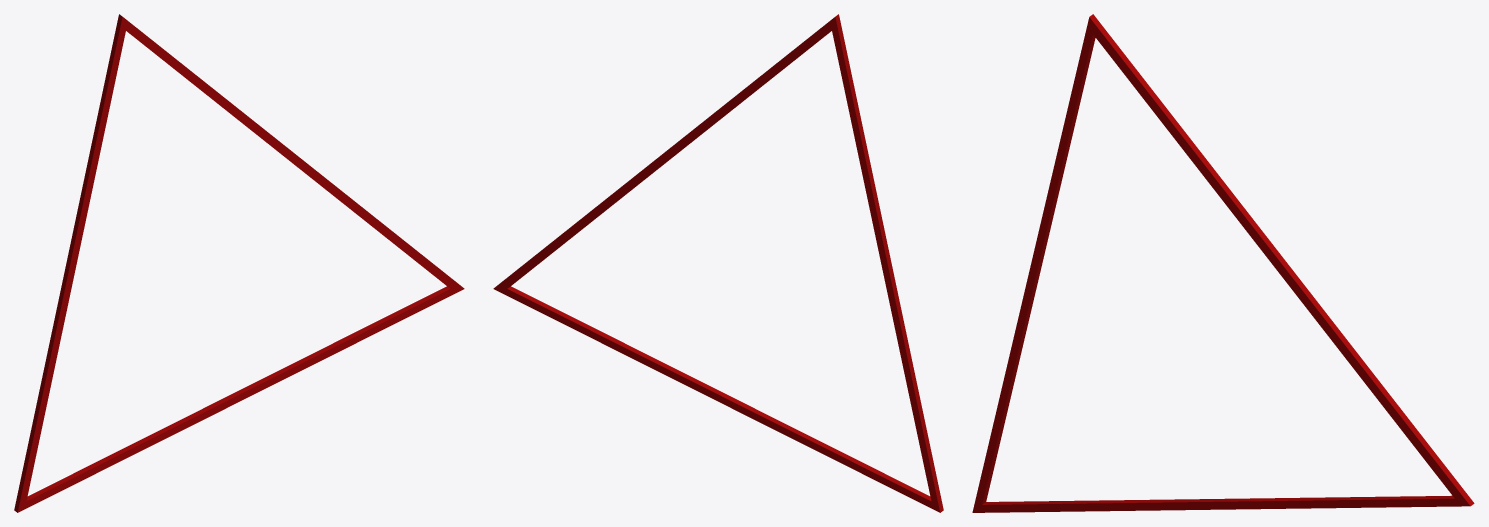
The model's file is triangle_title.fbx.
The picture shows the model from 3 angles, left to right: view 1: azimuth 30°, elevation 25°; view 2: azimuth 150°, elevation 25°; view 3: azimuth 330°, elevation 25°; orthographic projection. The views are drawn at different scales.
Parts seen in each view (by area): view 1: pCube2; view 2: pCube2; view 3: pCube2.
Boxes of the visible parts, <box> form: pCube2: <box>14,14,464,512</box>; pCube2: <box>493,14,943,512</box>; pCube2: <box>972,14,1474,512</box>.
Size of the model in its own units: 3.91 by 3.93 by 0.0537.
